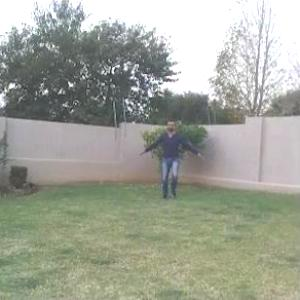land: (144, 112, 212, 203)
